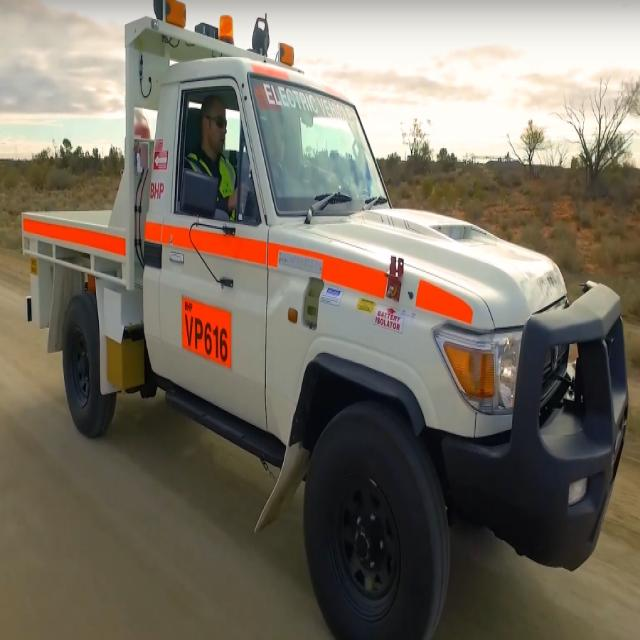light_vehicle: (11, 16, 634, 639)
